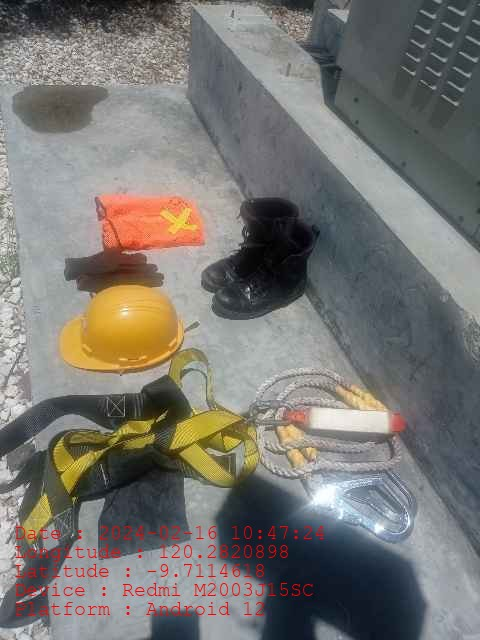HELM: (58, 283, 186, 371)
ROMPI: (92, 194, 203, 251)
SEPATU: (203, 198, 319, 319)
TAMBANG_SLING: (251, 367, 417, 526)
